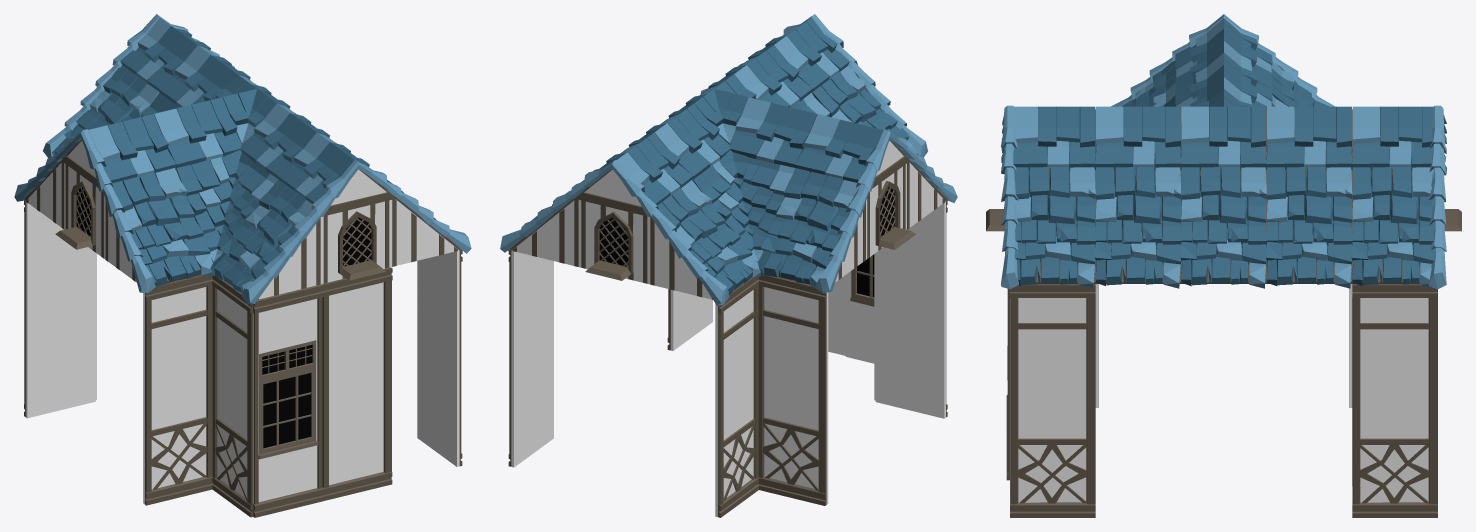
Rendered from house_05_parts.fbx.
The picture shows the model from 3 angles, left to right: view 1: azimuth 30°, elevation 25°; view 2: azimuth 150°, elevation 25°; view 3: azimuth 270°, elevation 25°; orthographic projection. The views are drawn at different scales.
Visible parts, largest first — view 1: WINDOW_04_3, WALL_04_4, WALL_03_3, WALL_04_5, WALL_04_3, WALL_04_8, ROOF_base_6, ROOF_inner_corner_3, ROOF_base_5, ROOF_triangle_window_grid_6, ROOF_base_small_8, ROOF_base_small_7 (+18 smaller); view 2: WALL_04_5, WALL_04_4, WALL_04_6, WALL_04_7, ROOF_base_11, ROOF_inner_corner_4, ROOF_base_10, ROOF_triangle_window_grid_8, ROOF_base_small_16, ROOF_base_small_14, ROOF_base_small_15, ROOF_base_5 (+19 smaller); view 3: WALL_04_7, WALL_04_8, ROOF_base_8, ROOF_base_4, ROOF_base_7, ROOF_base_9, ROOF_base_3, ROOF_base_small_11, ROOF_base_small_5, ROOF_base_small_10, ROOF_base_small_4, ROOF_base_small_12 (+11 smaller).
Part boxes in pixels (x1=…): WINDOW_04_3: x1=253, y1=284, x2=323, y2=517; WALL_04_4: x1=143, y1=275, x2=212, y2=505; WALL_03_3: x1=322, y1=267, x2=392, y2=500; WALL_04_5: x1=24, y1=200, x2=95, y2=418; WALL_04_3: x1=212, y1=275, x2=253, y2=517; WALL_04_8: x1=417, y1=249, x2=462, y2=466; ROOF_base_6: x1=112, y1=168, x2=213, y2=288; ROOF_inner_corner_3: x1=176, y1=149, x2=278, y2=262; ROOF_base_5: x1=210, y1=179, x2=314, y2=294; ROOF_triangle_window_grid_6: x1=322, y1=200, x2=390, y2=283; ROOF_base_small_8: x1=154, y1=97, x2=241, y2=170; ROOF_base_small_7: x1=88, y1=114, x2=176, y2=183; WALL_04_5: x1=758, y1=274, x2=828, y2=505; WALL_04_4: x1=875, y1=200, x2=947, y2=418; WALL_04_6: x1=715, y1=276, x2=758, y2=517; WALL_04_7: x1=508, y1=249, x2=553, y2=467; ROOF_base_11: x1=758, y1=168, x2=860, y2=290; ROOF_inner_corner_4: x1=693, y1=150, x2=794, y2=262; ROOF_base_10: x1=657, y1=180, x2=761, y2=294; ROOF_triangle_window_grid_8: x1=580, y1=200, x2=649, y2=283; ROOF_base_small_16: x1=729, y1=97, x2=816, y2=167; ROOF_base_small_14: x1=794, y1=114, x2=882, y2=182; ROOF_base_small_15: x1=654, y1=104, x2=730, y2=180; ROOF_base_5: x1=812, y1=66, x2=918, y2=155; WALL_04_7: x1=1352, y1=284, x2=1437, y2=517; WALL_04_8: x1=1010, y1=284, x2=1095, y2=517; ROOF_base_8: x1=1266, y1=164, x2=1352, y2=288; ROOF_base_4: x1=1095, y1=167, x2=1181, y2=288; ROOF_base_7: x1=1180, y1=166, x2=1266, y2=288; ROOF_base_9: x1=1351, y1=167, x2=1435, y2=287; ROOF_base_3: x1=1010, y1=166, x2=1095, y2=288; ROOF_base_small_11: x1=1266, y1=106, x2=1352, y2=170; ROOF_base_small_5: x1=1095, y1=106, x2=1181, y2=170; ROOF_base_small_10: x1=1181, y1=106, x2=1266, y2=170; ROOF_base_small_4: x1=1013, y1=106, x2=1095, y2=170; ROOF_base_small_12: x1=1352, y1=106, x2=1434, y2=170.
Bounding box in the file's own units: 439 × 460 × 556.
